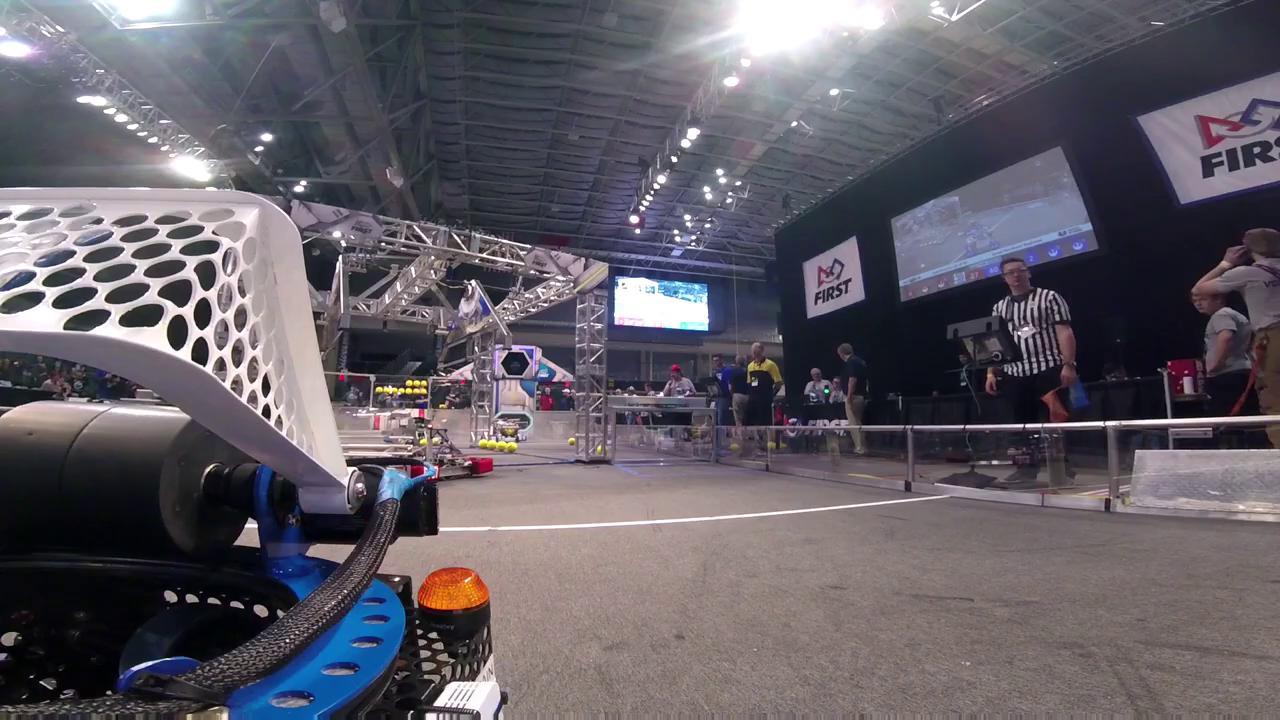robot: (389, 426, 493, 484)
